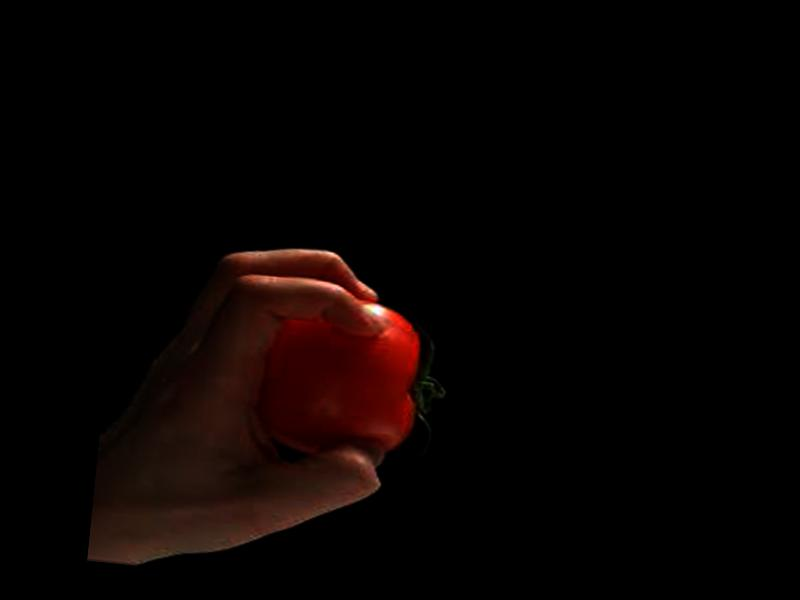Tomato: (258, 293, 450, 466)
